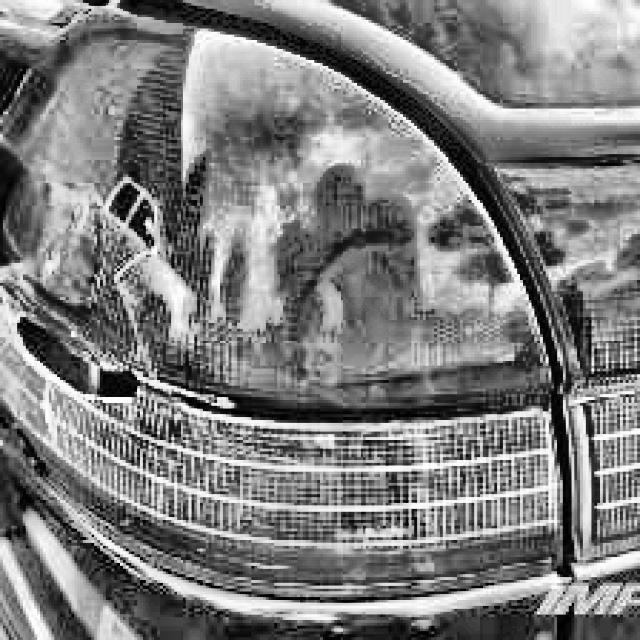tail_lamp: (22, 318, 137, 416)
